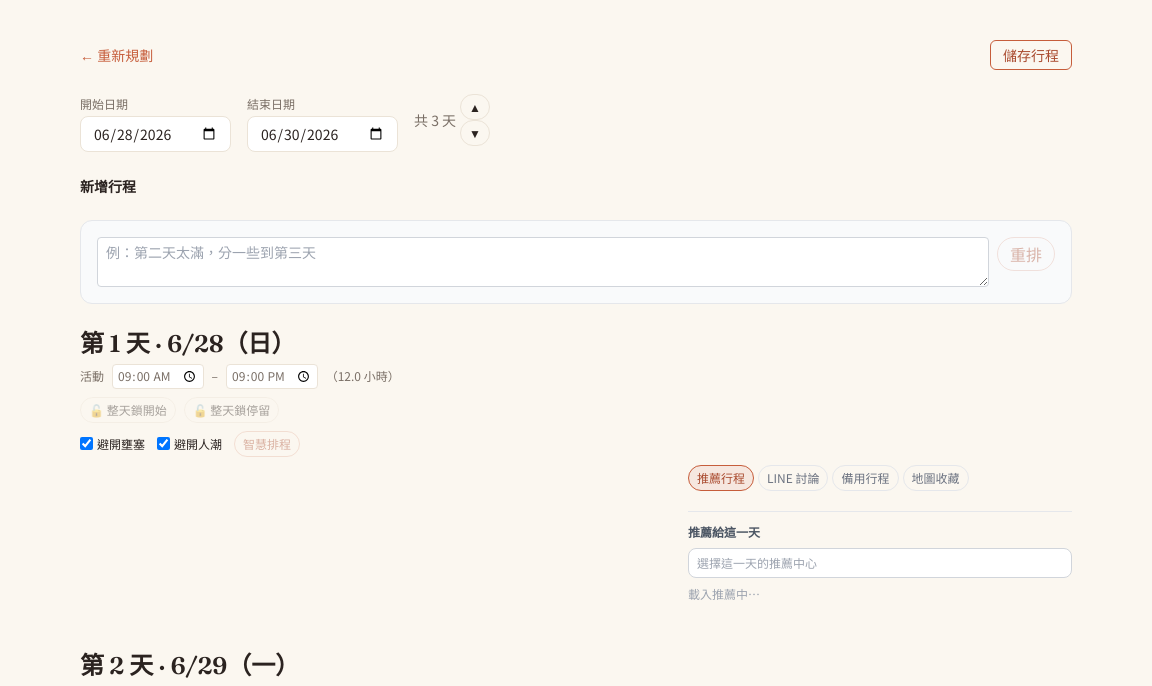
clicking ▼ repeatedly keeps decrementing the pending target (not stuck after one click)
What coordinates should you click on to do the following:
click the button with test id "day-count-stepper-down"
I would click on:
 (475, 133)
Its box is [460, 120, 490, 146].
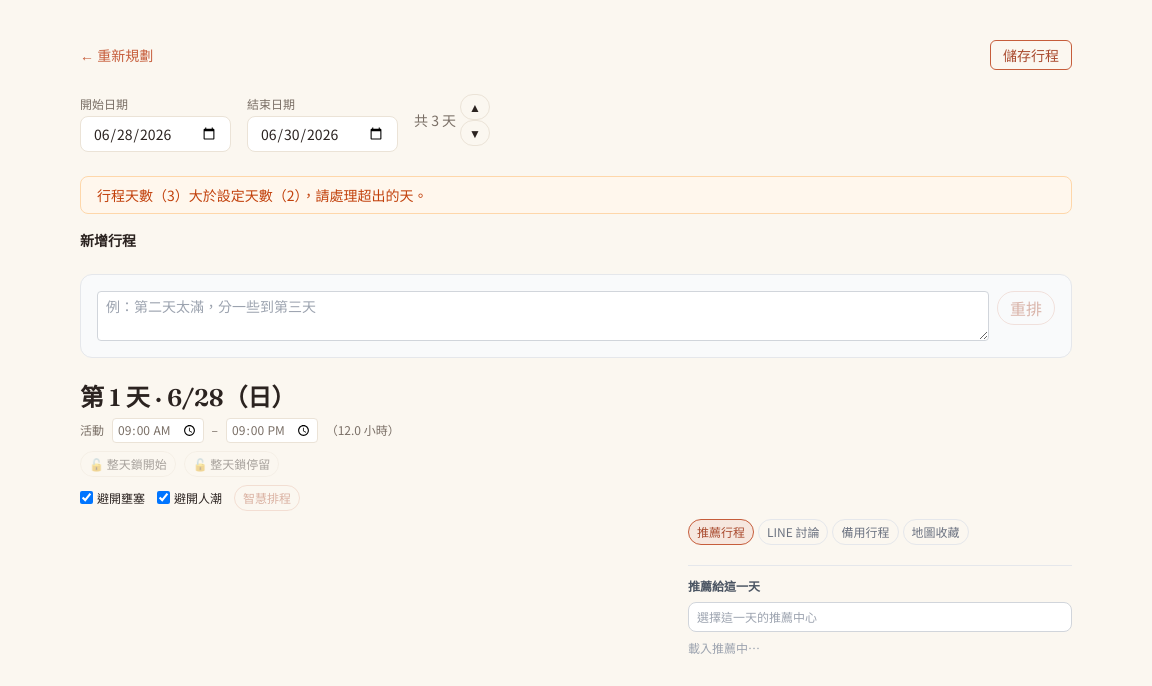
Expected: the text "行程天數（3）大於設定天數（2），請處理超出的天。" is shown, [80, 176, 1072, 214]
What coordinates should you click on to do the following:
click the button with test id "day-count-stepper-down"
I would click on:
 (475, 133)
Its box is [460, 120, 490, 146].
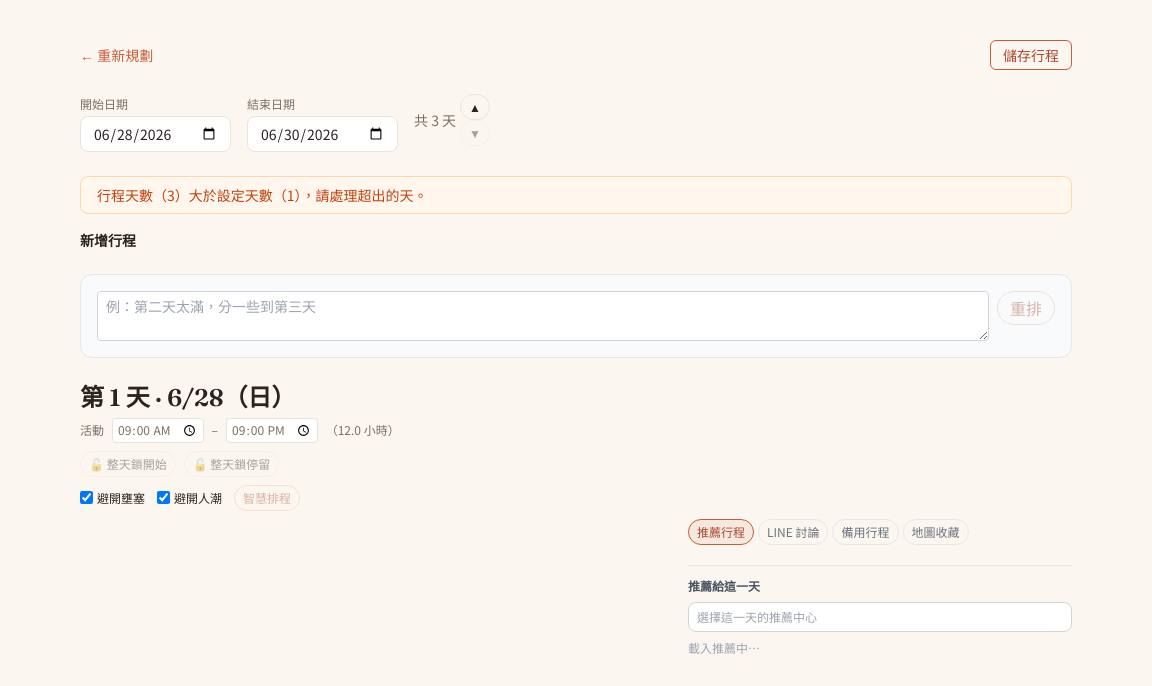
Expected: the text "行程天數（3）大於設定天數（1），請處理超出的天。" is shown, [80, 176, 1072, 214]
Expected: the button with test id "day-count-stepper-down" is disabled, [460, 120, 490, 146]
